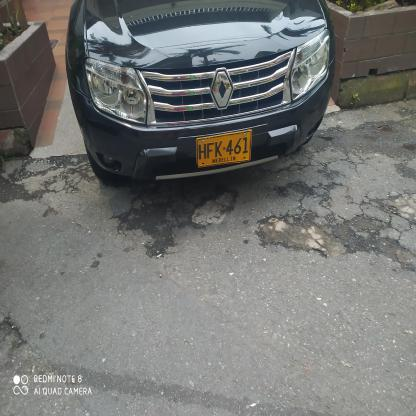placa: (194, 128, 253, 169)
